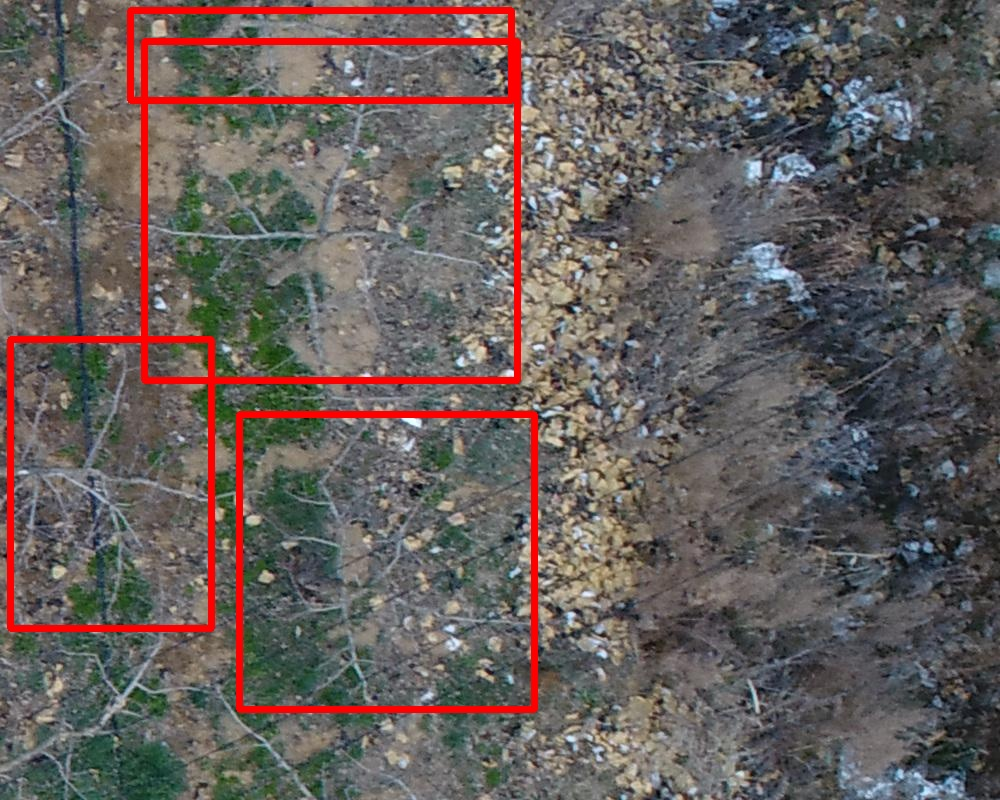apple: (144, 41, 517, 380), (239, 414, 534, 709), (10, 339, 211, 628), (130, 10, 511, 100)
